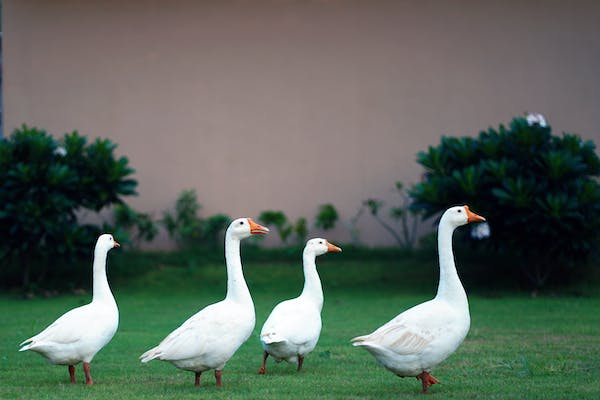Walking: (349, 181, 494, 397), (144, 209, 272, 393), (7, 221, 130, 389)
